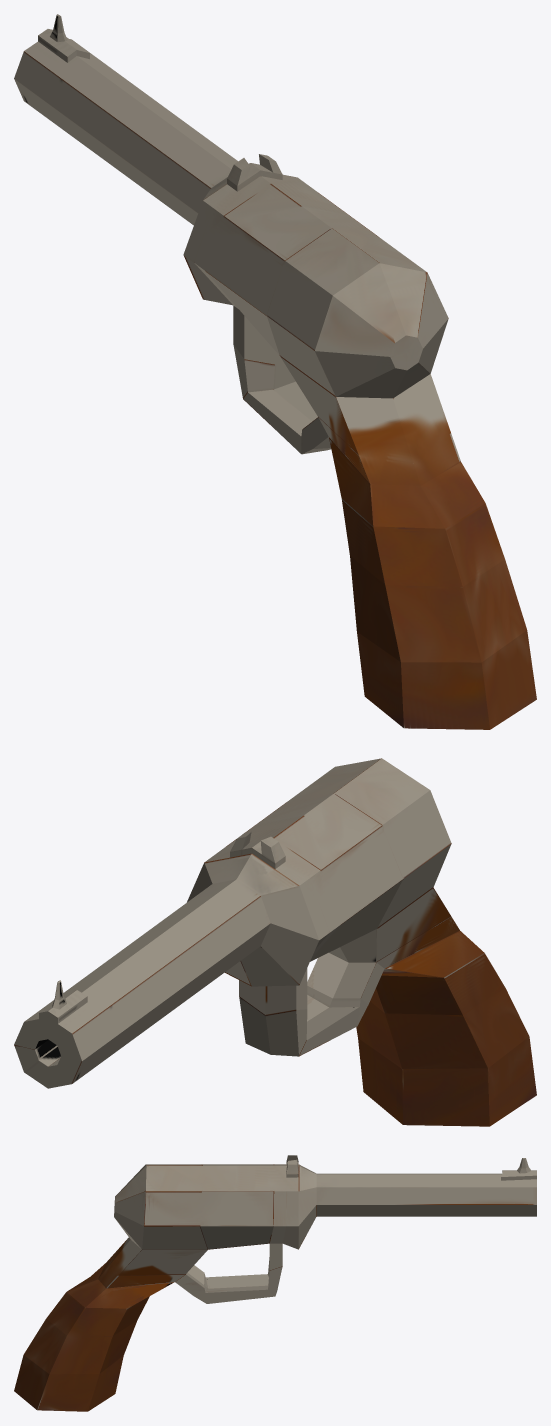
3 views of the same model, one above another, from view 1: azimuth 30°, elevation 25°; view 2: azimuth 150°, elevation 25°; view 3: azimuth 270°, elevation 25° (orthographic). The views are drawn at different scales.
Visible parts, largest first — view 1: Cube; view 2: Cube; view 3: Cube.
Boxes of the visible parts, x1=… form: Cube: x1=14, y1=14, x2=536, y2=729; Cube: x1=14, y1=758, x2=536, y2=1126; Cube: x1=14, y1=1155, x2=536, y2=1411.
Bounding box in the file's own units: 0.9675 × 2.73 × 5.5.
1 material, 1 textured.
